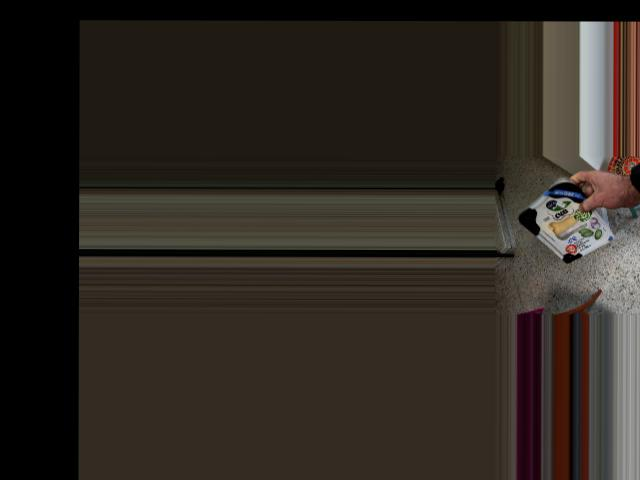cheese: (531, 158, 600, 268)
